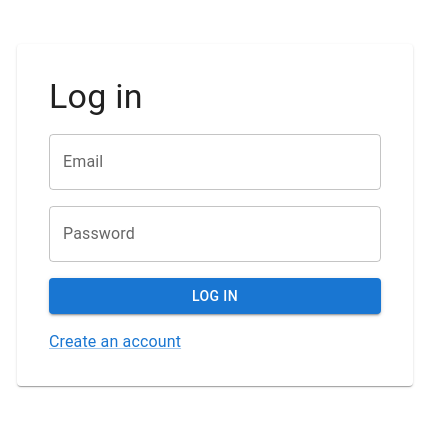
it: LoginPage › shows an invalid credentials message on 401
Type "a@b.com" into the field labelled "Email" at coordinates (215, 162), box [49,134,381,190]
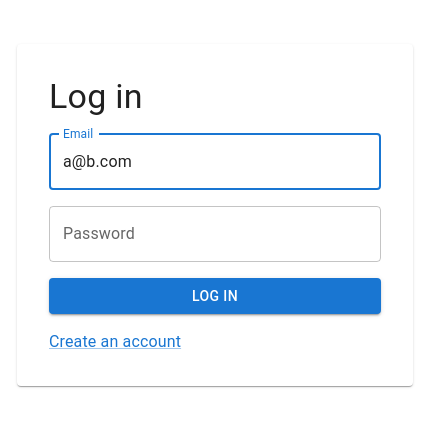
Type "password123" into the password field labelled "Password" at coordinates (215, 234), box [49,206,381,262]
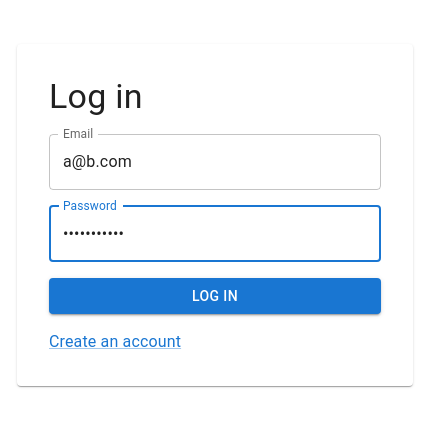
Click the button "Log in" at coordinates (215, 296), box [49,278,381,314]
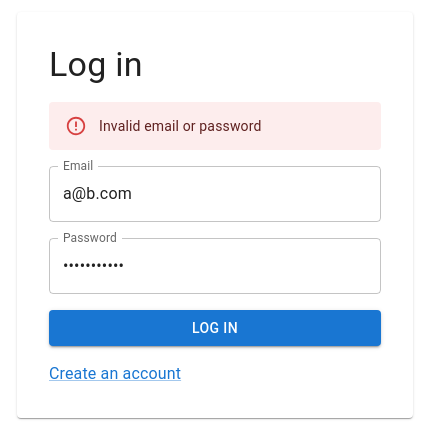
Expected: the text "Invalid email or password" is shown, [99,118,262,134]
